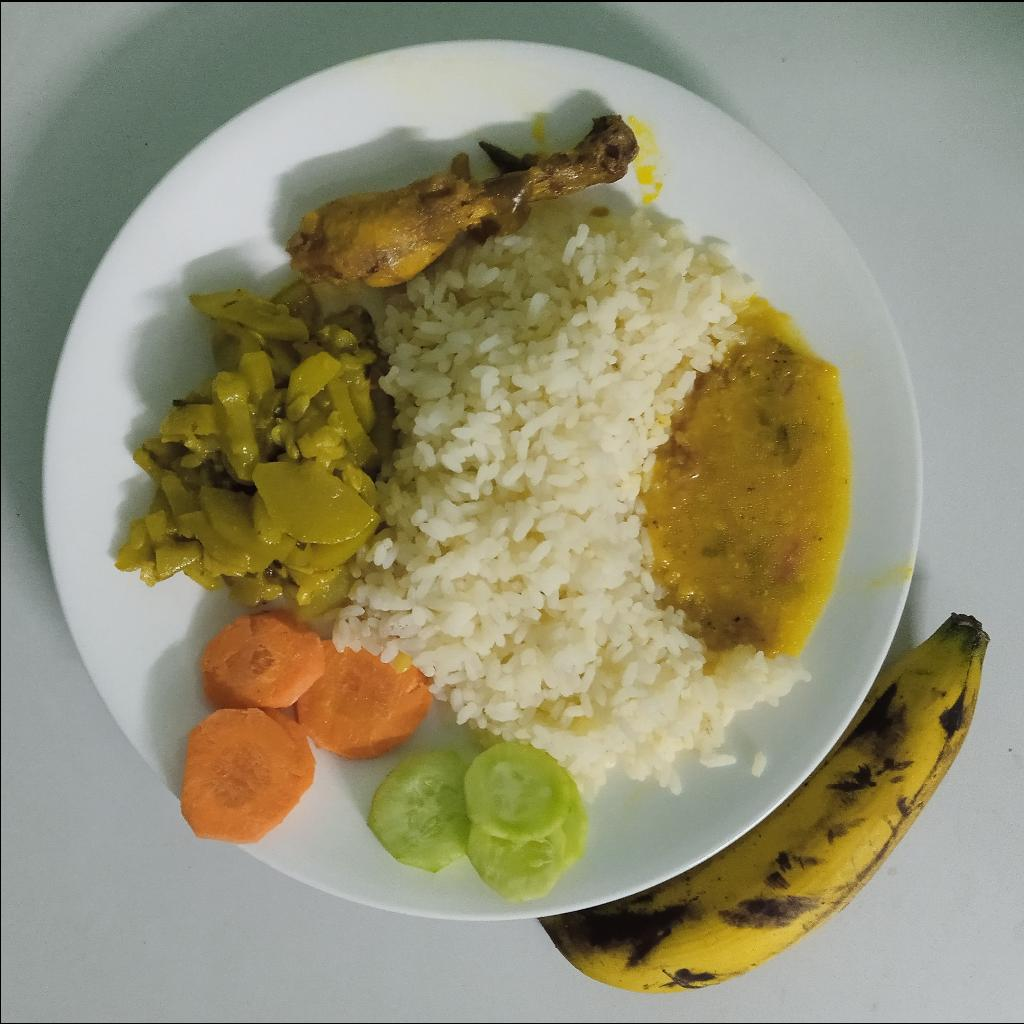banana: (538, 612, 990, 992)
carrot: (178, 607, 430, 846)
chicken: (284, 111, 640, 285)
cucumber: (364, 741, 589, 900)
daal: (643, 302, 857, 652)
dundol: (111, 279, 389, 612)
rice: (329, 211, 804, 790)
